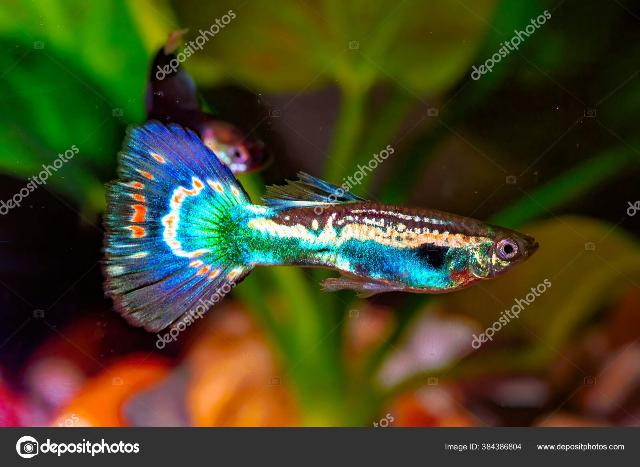Mulut: (491, 214, 557, 276)
Sirip Anal: (308, 251, 402, 320)
Sirip Ekor: (82, 103, 252, 359)
Sirip Punggung: (248, 159, 374, 215)
